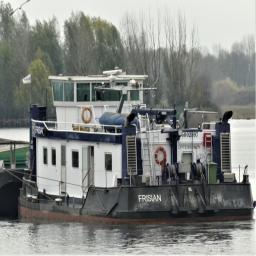tugboat: (17, 60, 256, 230)
